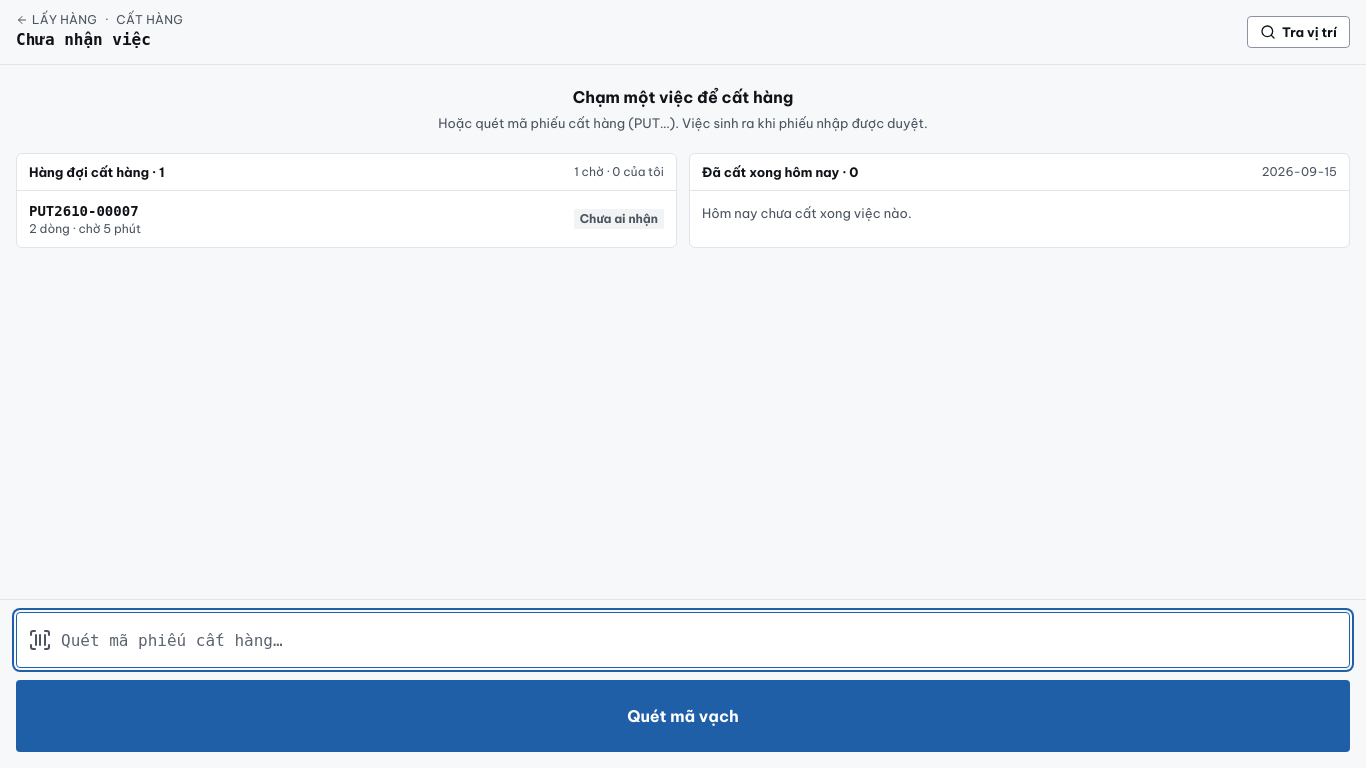
Test: Màn cất hàng web (LOC-6) — giỏ thùng → quét vị trí → cất › "Cất còn lại vào DEFAULT" → xác nhận → toDefault + allRemaining → xong việc
The width and height of the screenshot is (1366, 768).
Click the button with aria-label "Mở PUT2610-00007": {"x": 84, "y": 211} [17,191,676,247]
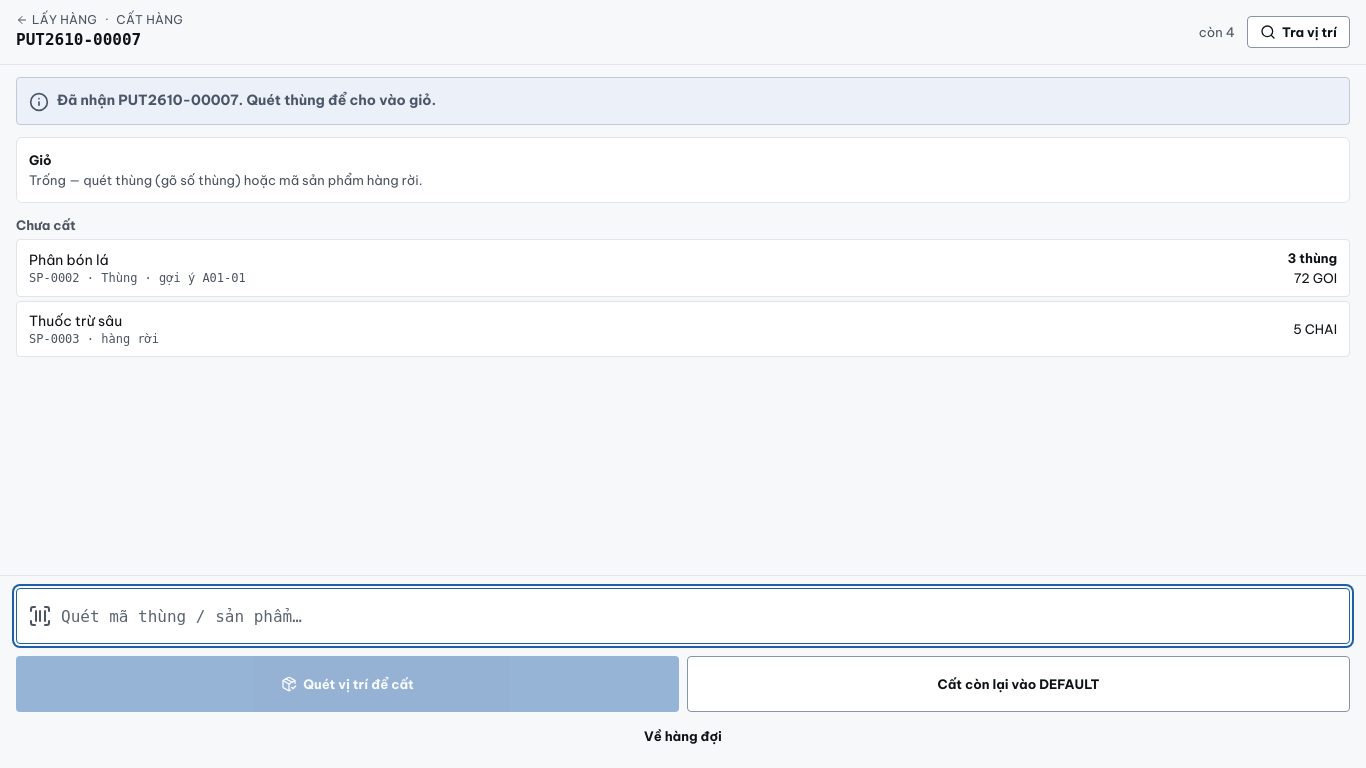
Expected: the element "Chưa cất" is shown, [16,215,1350,357]
Click the button "Cất còn lại vào DEFAULT": {"x": 1018, "y": 684} [687,656,1350,712]
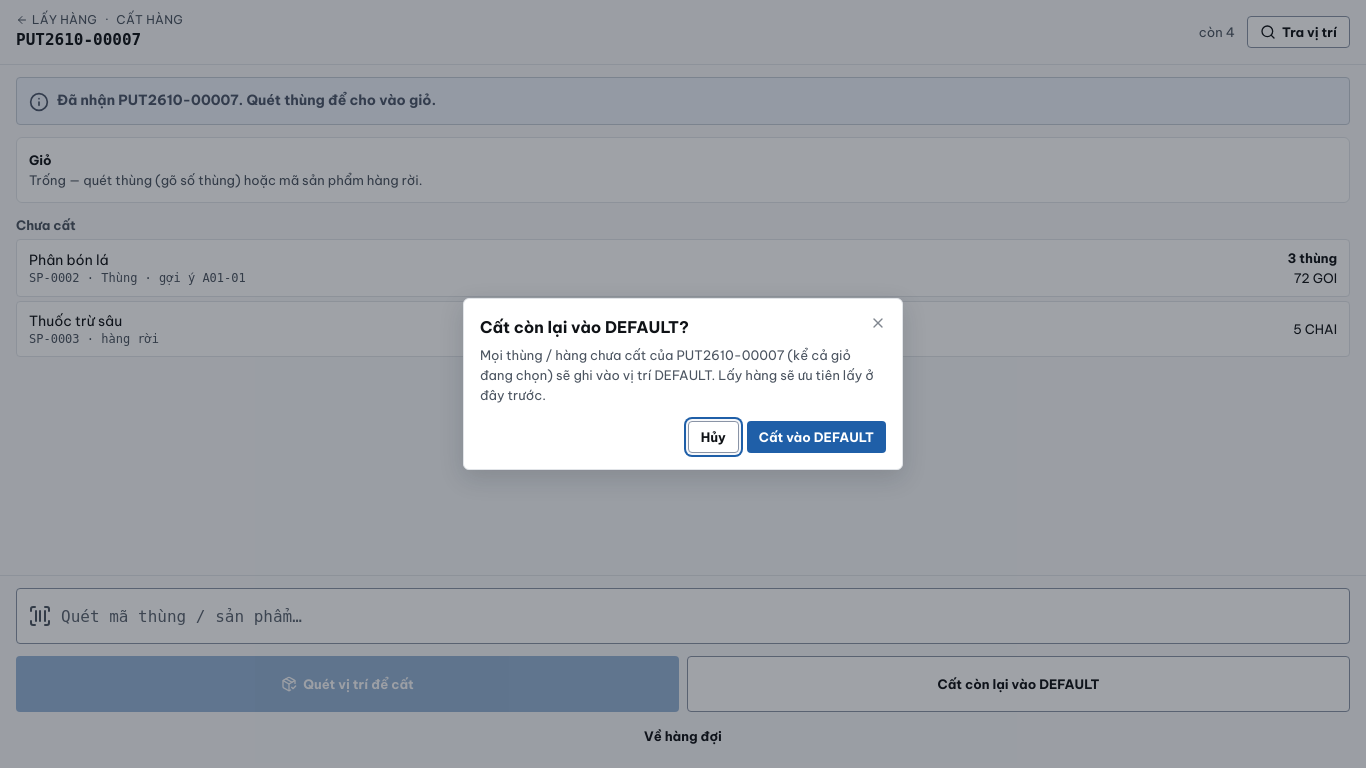
Click the button "Cất vào DEFAULT": {"x": 816, "y": 437} [747,421,886,453]
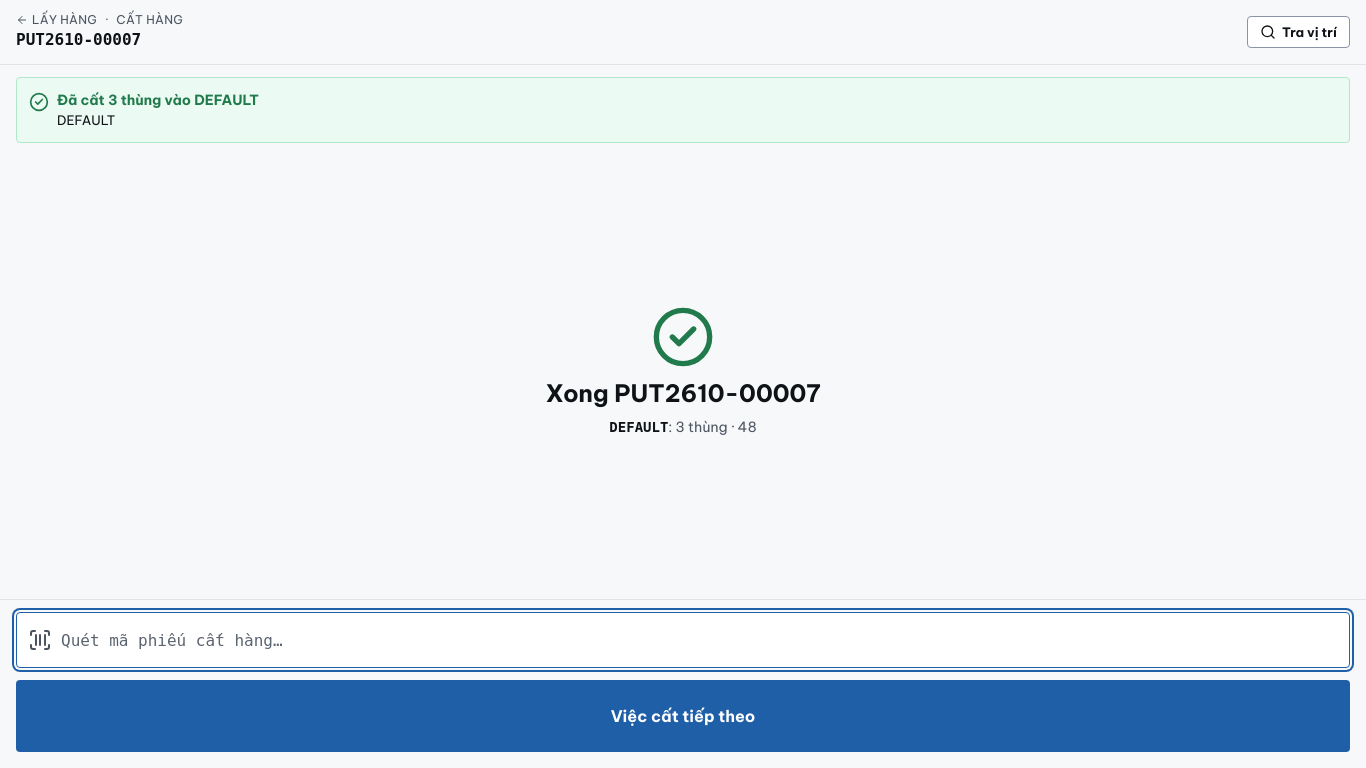
Expected: the text "Xong PUT2610-00007" is shown, [546,377,821,409]
Expected: the button "Việc cất tiếp theo" is shown, [16,680,1350,752]
